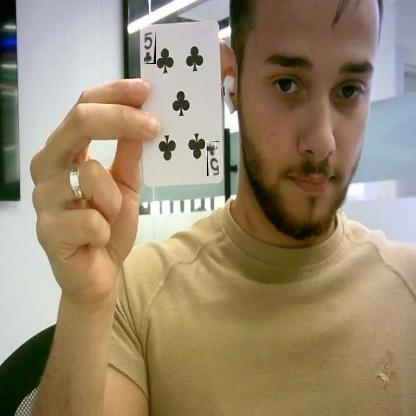5C: (207, 141, 219, 176), (144, 30, 156, 64)
